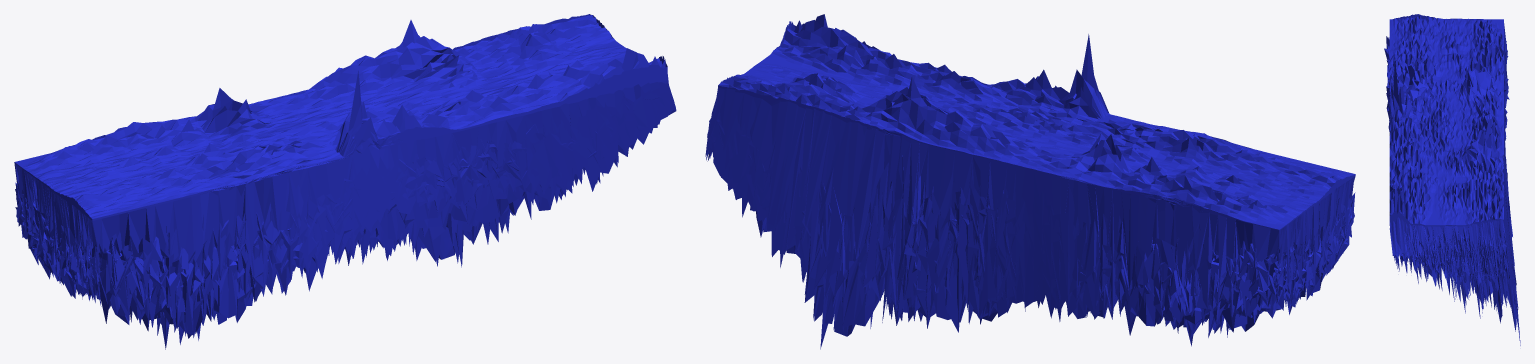
The model's file is landscape.dae.
3 renders of one model, left to right at view 1: azimuth 30°, elevation 25°; view 2: azimuth 150°, elevation 25°; view 3: azimuth 270°, elevation 25°, orthographic. The views are drawn at different scales.
Visible parts, largest first — view 1: Cube; view 2: Cube; view 3: Cube.
Boxes of the visible parts, box(x1,y1,x2,y2) form: Cube: box(14, 14, 676, 349); Cube: box(705, 14, 1355, 349); Cube: box(1384, 14, 1520, 345).
Size of the model in its own units: 152 by 41.61 by 75.74.
